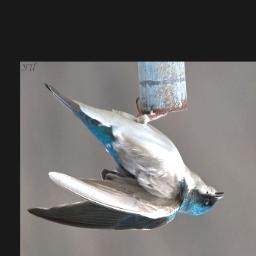Swallow: (25, 80, 227, 234)
